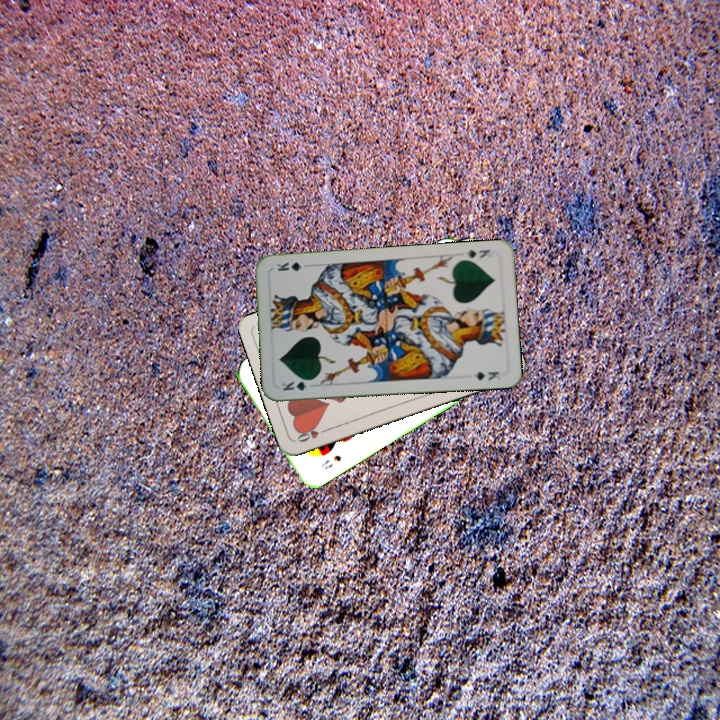GK: (278, 375, 317, 393), (461, 245, 492, 260)
HO: (293, 423, 332, 445)
S8: (317, 451, 344, 472)
